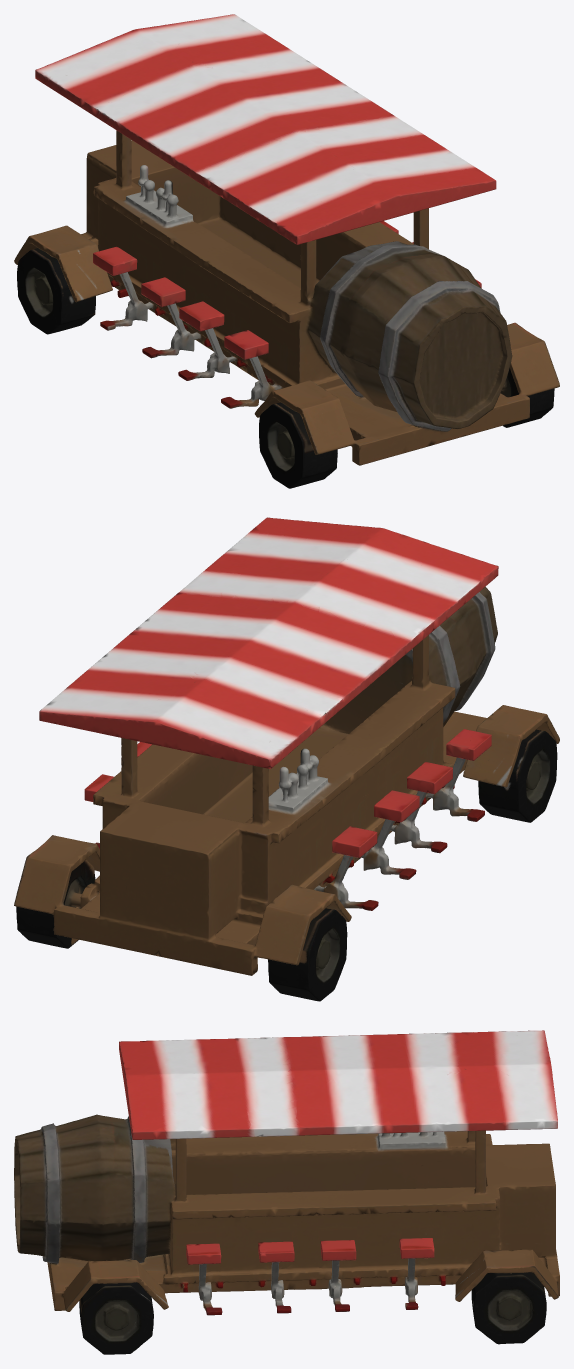
Rendered from bierfiets.glb.
3 views of the same model, one above another, from view 1: azimuth 30°, elevation 25°; view 2: azimuth 150°, elevation 25°; view 3: azimuth 270°, elevation 25° (orthographic). The views are drawn at different scales.
Visible parts, largest first — view 1: Mesh_0; view 2: Mesh_0; view 3: Mesh_0.
Boxes of the visible parts, x1,y1,x2,y2 form: Mesh_0: [14, 14, 559, 488]; Mesh_0: [14, 517, 559, 1001]; Mesh_0: [14, 1030, 559, 1354].
Size of the model in its own units: 1.06 by 0.8628 by 1.92.
1 material, 1 textured.
